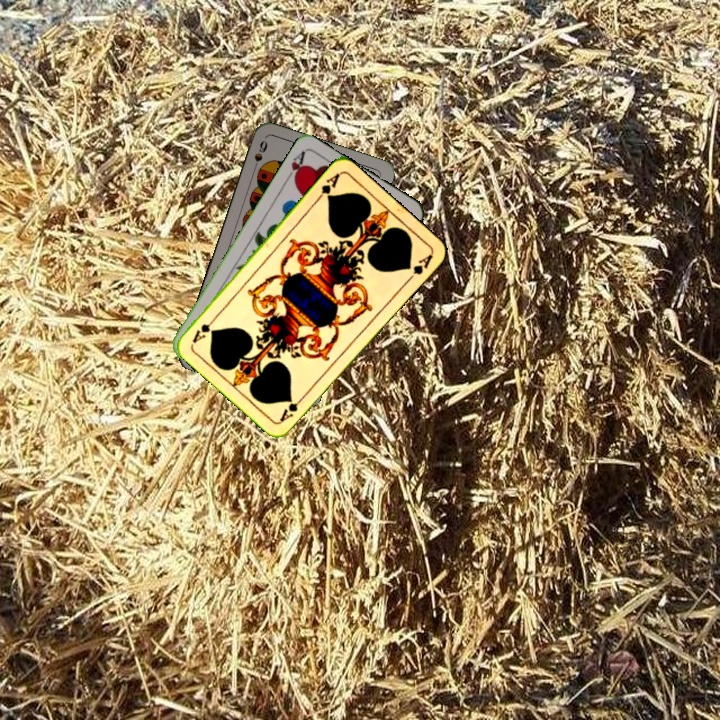GA: (275, 392, 308, 425), (312, 169, 343, 204)
HA: (281, 147, 308, 185)
S9: (248, 136, 270, 175)
